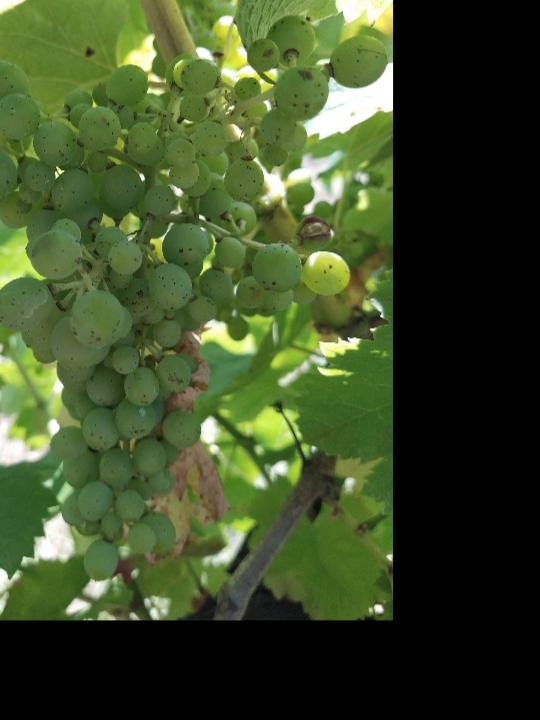grape: (0, 15, 391, 586)
